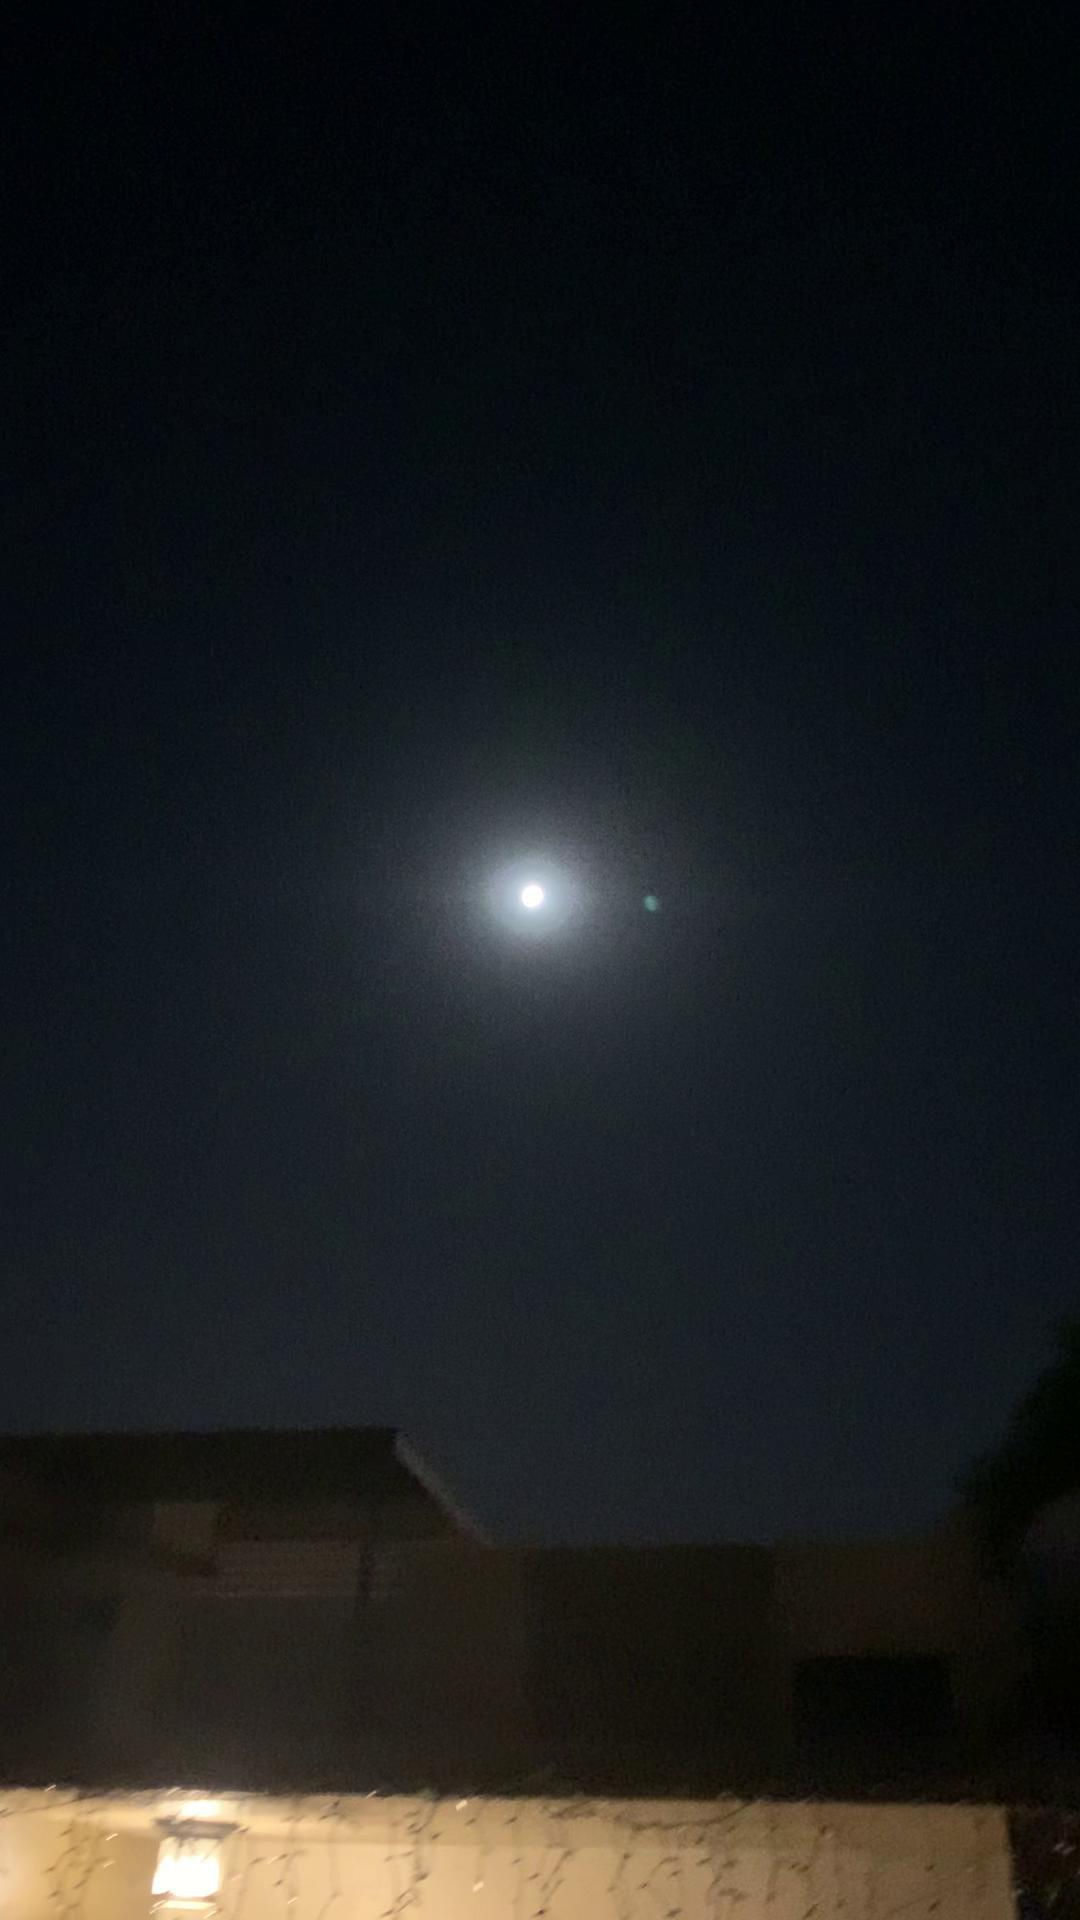moon: (492, 860, 579, 939)
